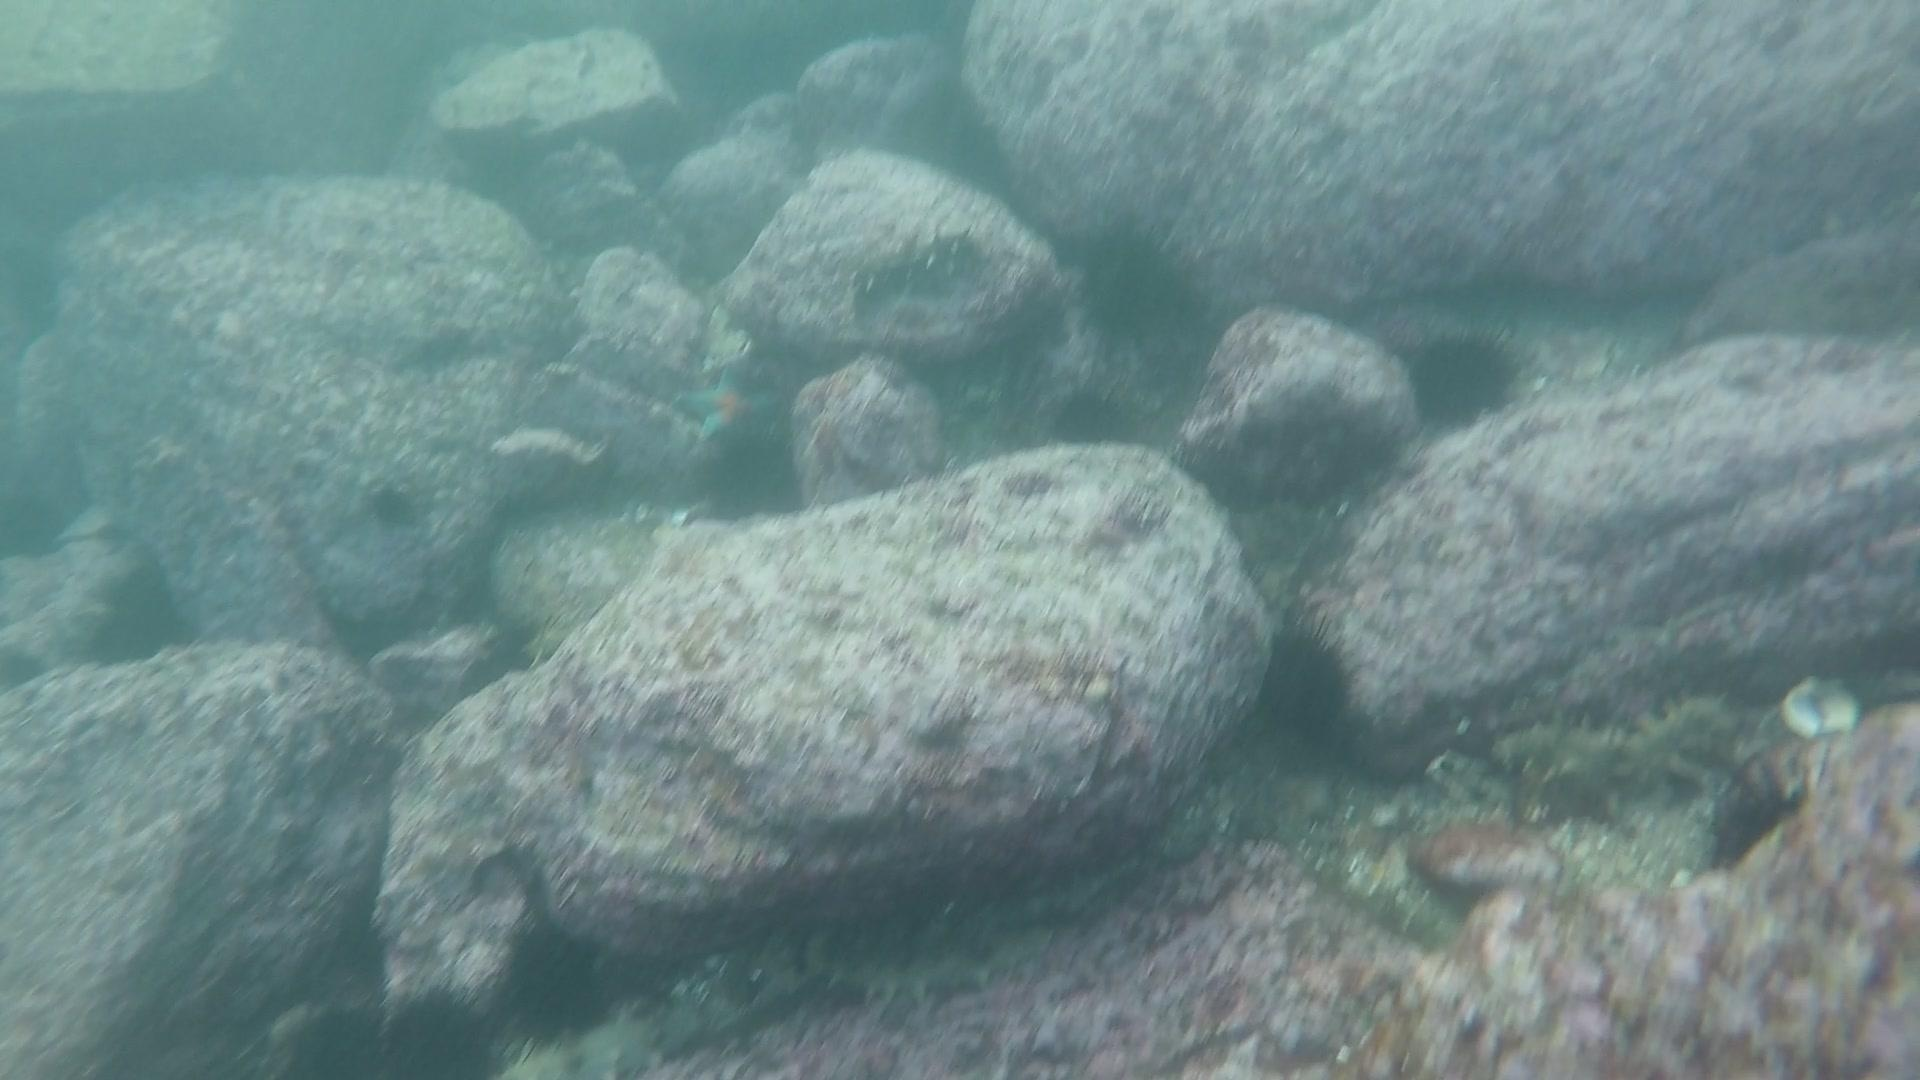echinus: (1067, 212, 1204, 353), (493, 916, 620, 1048), (1247, 613, 1364, 752), (1398, 322, 1530, 436), (371, 978, 516, 1077), (691, 421, 808, 527), (1043, 378, 1143, 459)
holothurian: (1484, 690, 1745, 827), (783, 915, 1018, 1015), (815, 233, 975, 305)
starfish: (671, 361, 779, 448)
